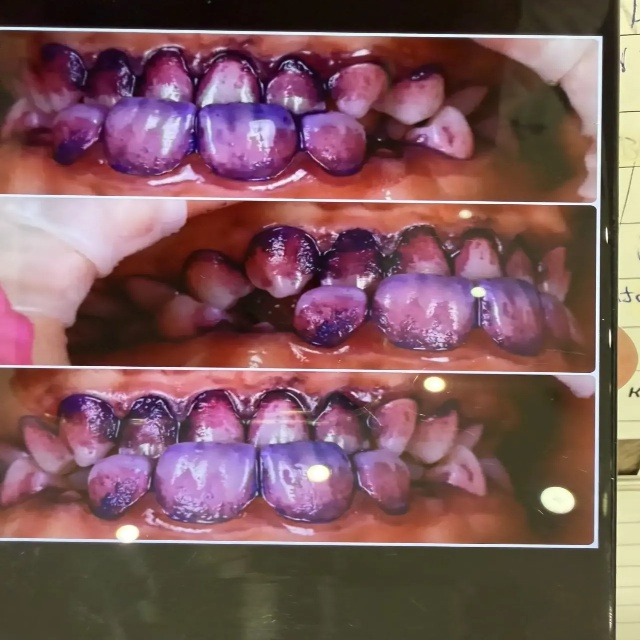clean_tooth: (618, 0, 639, 352), (616, 473, 639, 639), (617, 366, 639, 439)
plaque: (26, 45, 365, 182), (62, 390, 399, 522), (275, 233, 552, 348), (269, 228, 313, 275), (414, 113, 462, 152)
